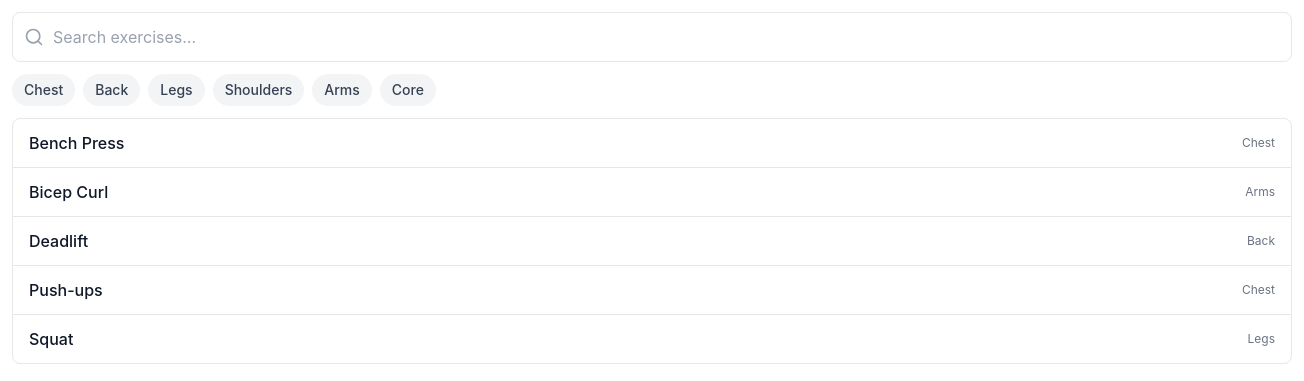
Test: ExerciseSelector › should filter exercises by search query
Expected: the text "Bench Press" is shown, [29,131,124,155]
Type "bench" into the field with placeholder "Search exercises..." at [652, 37], box [12,12,1292,62]
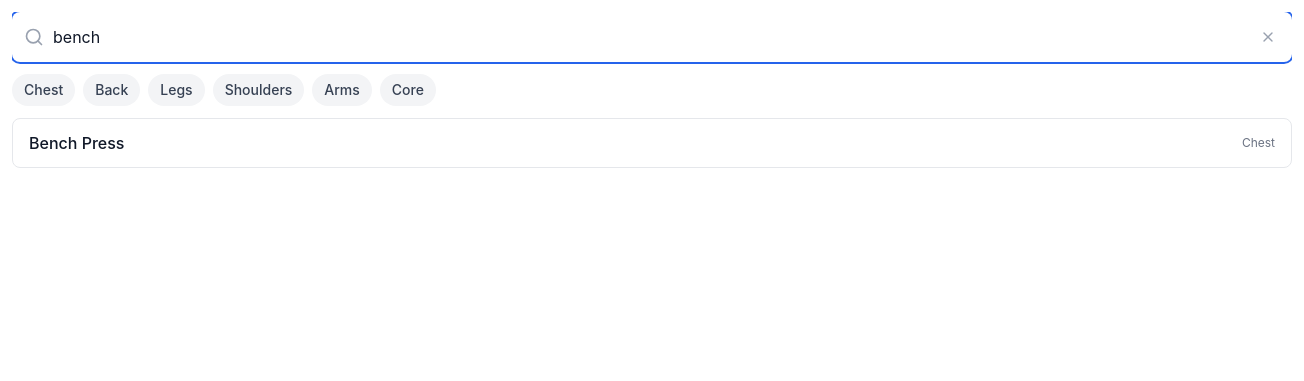
Expected: the text "Bench Press" is shown, [29,131,124,155]
Now the button "Squat" is gone
Now the button "Deadlift" is gone
